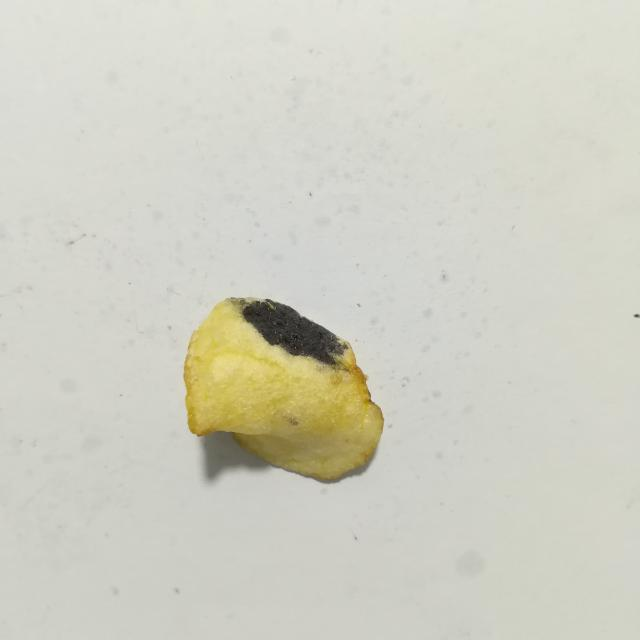chip: (184, 298, 383, 480)
damaged: (233, 298, 348, 370)
